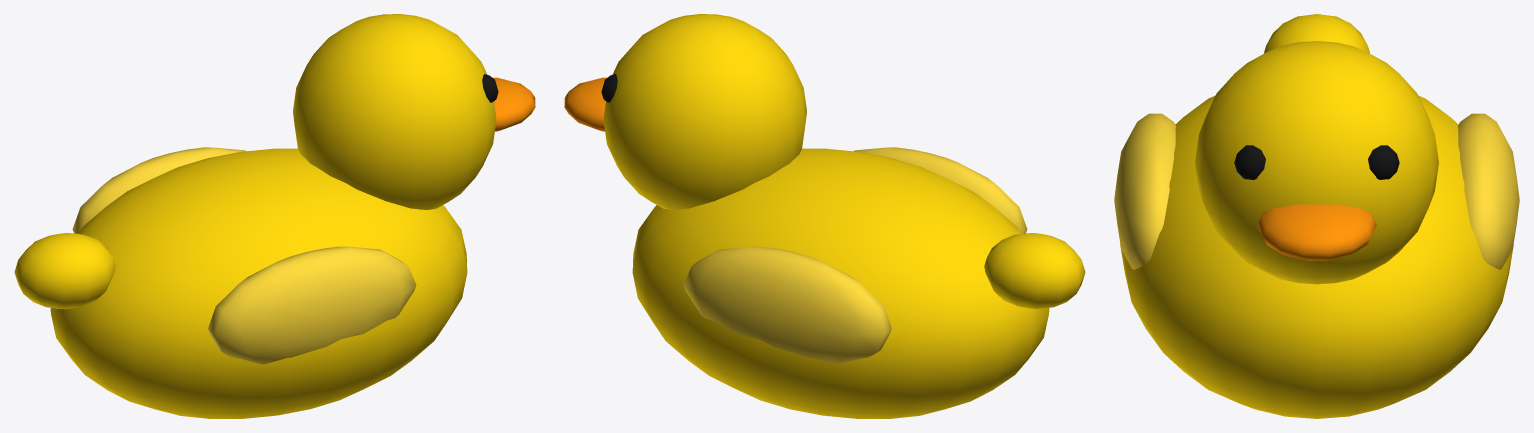
Rendered from Duck.glb.
3 views of the same model, side by side, from view 1: azimuth 30°, elevation 25°; view 2: azimuth 150°, elevation 25°; view 3: azimuth 270°, elevation 25° (orthographic). The views are drawn at different scales.
Visible parts, largest first — view 1: Duck; view 2: Duck; view 3: Duck.
Part boxes in pixels (x1,y1,x2,y2): Duck: (14, 14, 535, 418); Duck: (564, 14, 1085, 418); Duck: (1114, 14, 1519, 418).
Bounding box in the file's own units: 3.56 × 2.27 × 2.06.
